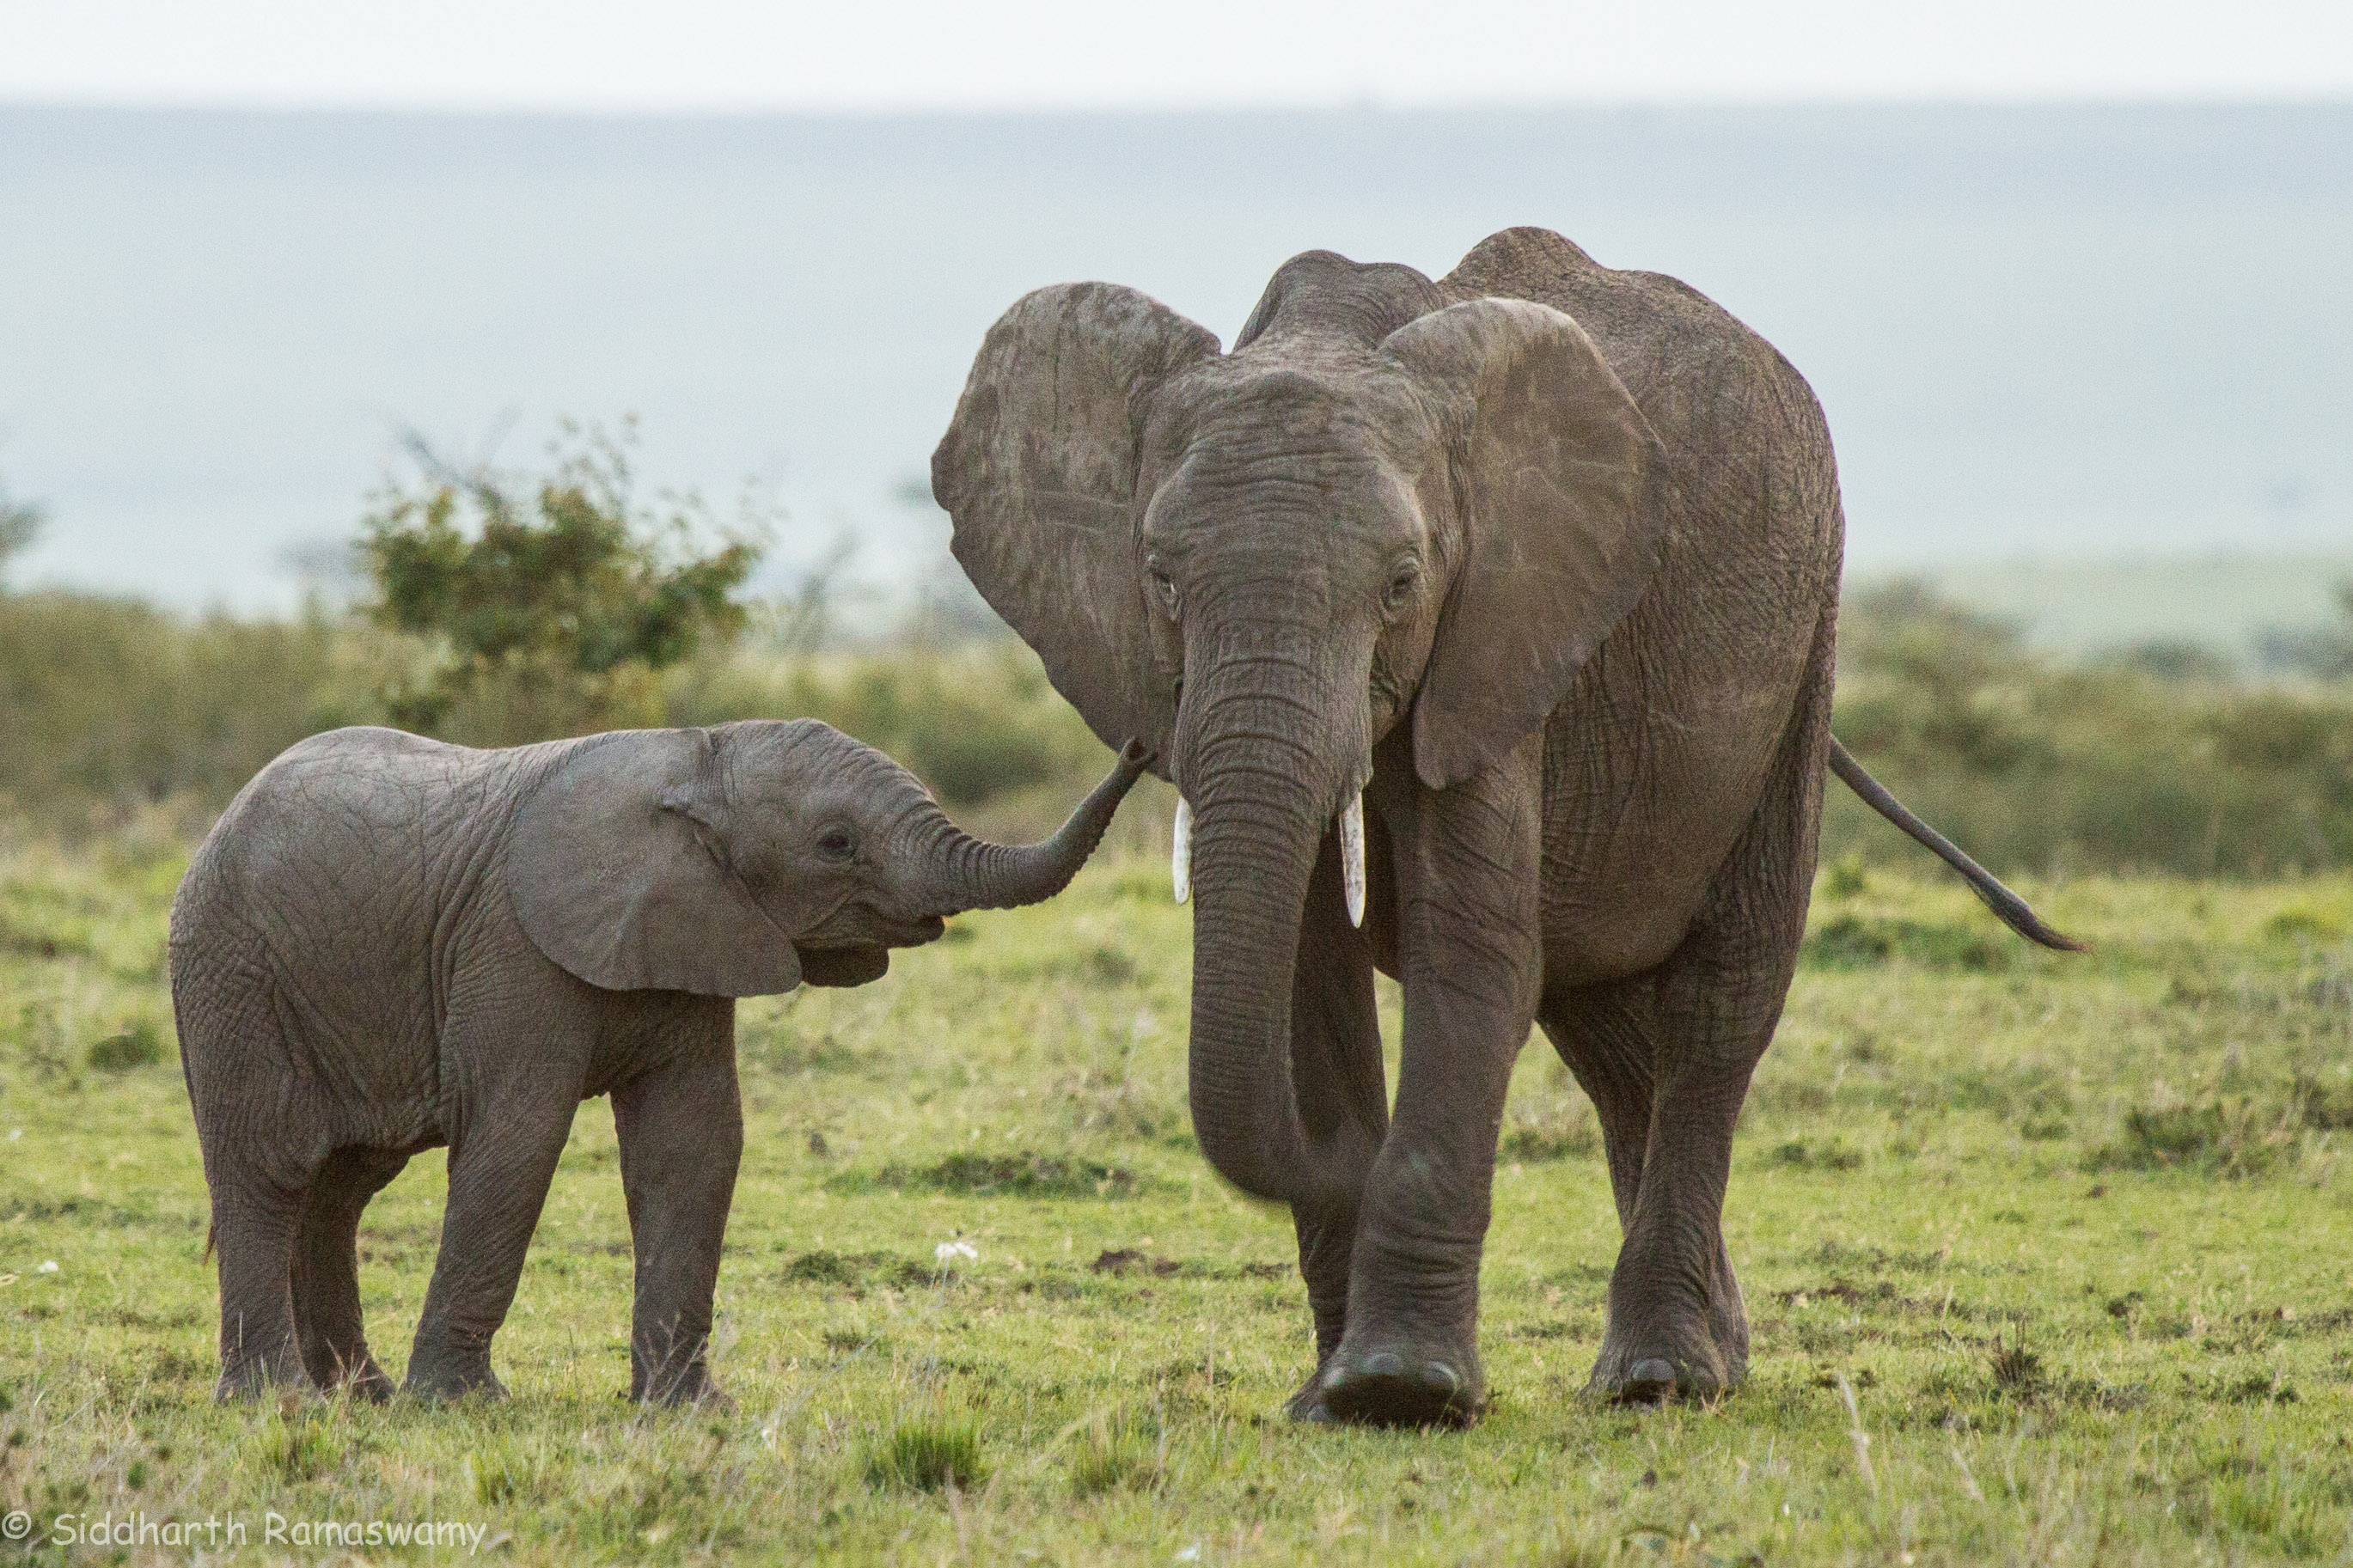elephant: (910, 219, 1852, 1424), (163, 716, 1150, 1426)
